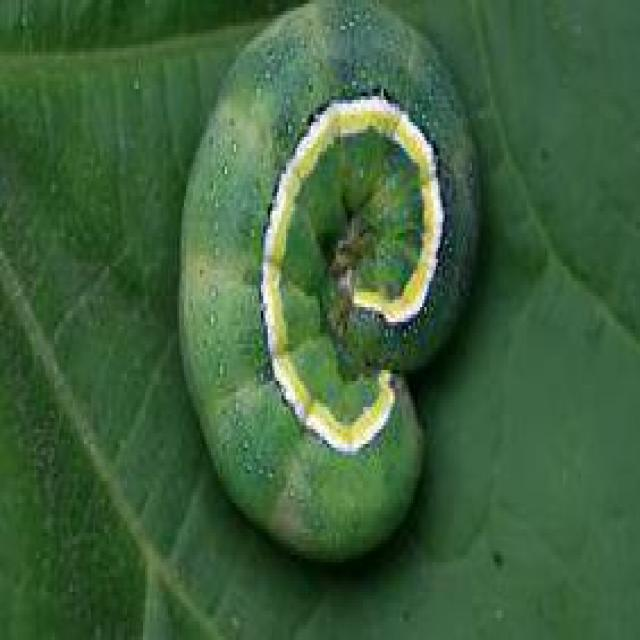BeetArmyWorm-Larva-: (179, 1, 482, 570)
